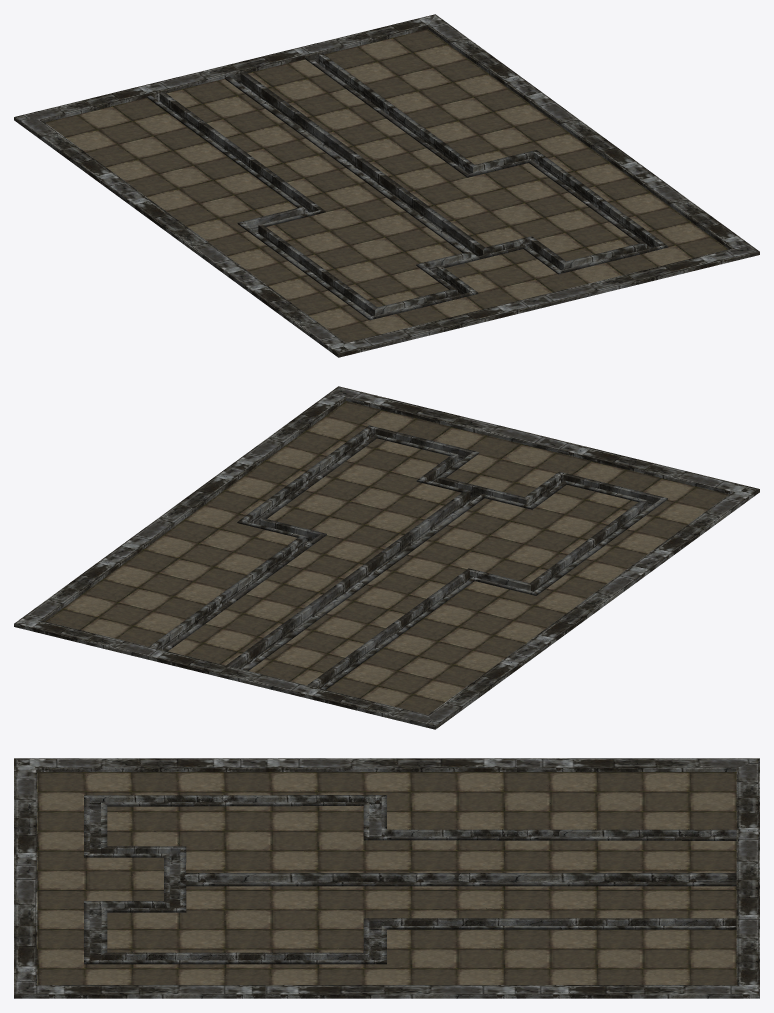
Rendered from fountain_floor.dae.
3 views of the same model, one above another, from view 1: azimuth 30°, elevation 25°; view 2: azimuth 150°, elevation 25°; view 3: azimuth 270°, elevation 25° (orthographic). The views are drawn at different scales.
Parts seen in each view (by area): view 1: polySurface17, polySurface10; view 2: polySurface17, polySurface10; view 3: polySurface17, polySurface10.
Boxes of the visible parts, x1=… form: polySurface17: x1=45, y1=29, x2=728, y2=342; polySurface10: x1=14, y1=14, x2=759, y2=357; polySurface17: x1=45, y1=401, x2=728, y2=714; polySurface10: x1=14, y1=386, x2=759, y2=729; polySurface17: x1=37, y1=772, x2=736, y2=984; polySurface10: x1=14, y1=758, x2=759, y2=998.
Bounding box in the file's own units: 6 × 0.1574 × 8.
